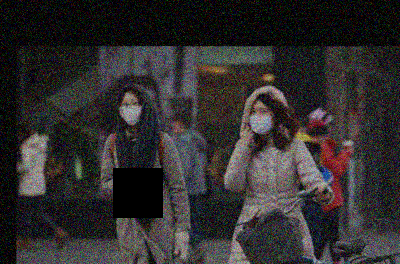with_mask: (248, 106, 273, 135), (117, 98, 141, 126)
